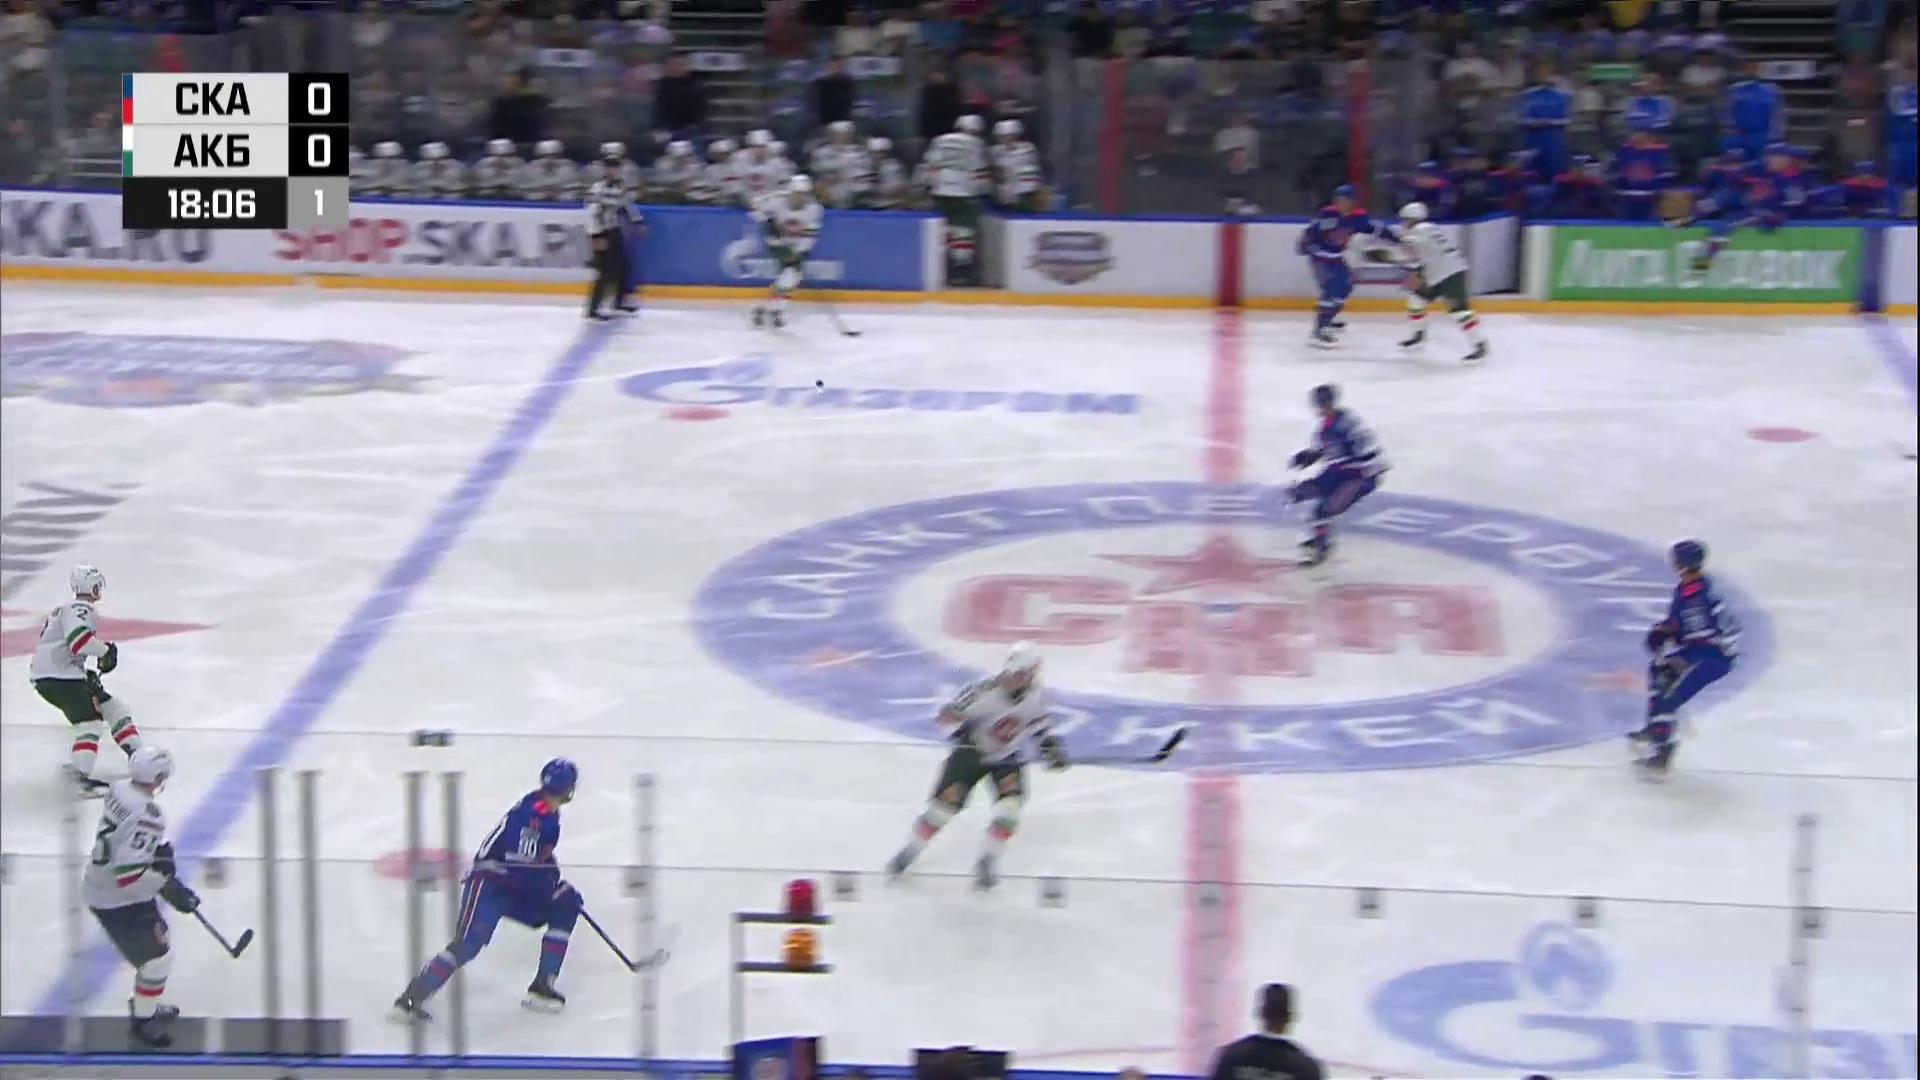ball: (815, 378, 824, 390)
